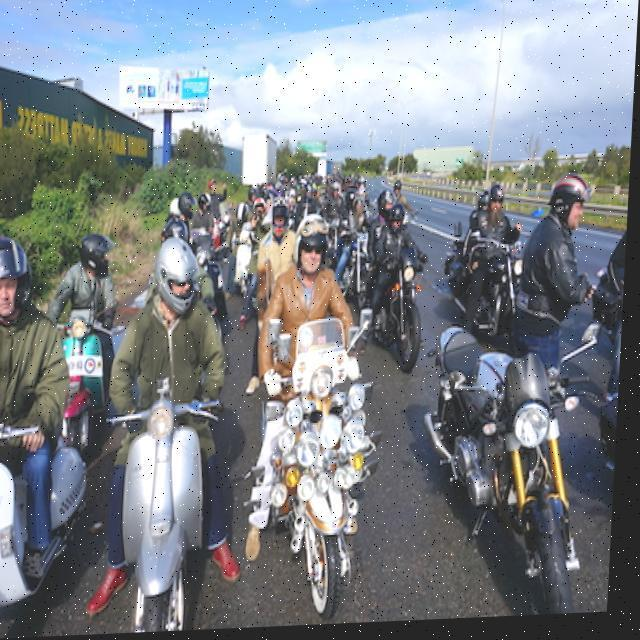Helmet: (153, 234, 210, 323), (288, 212, 336, 296), (0, 226, 32, 326), (74, 222, 122, 280), (382, 189, 418, 242), (487, 182, 517, 224), (175, 188, 198, 220)
